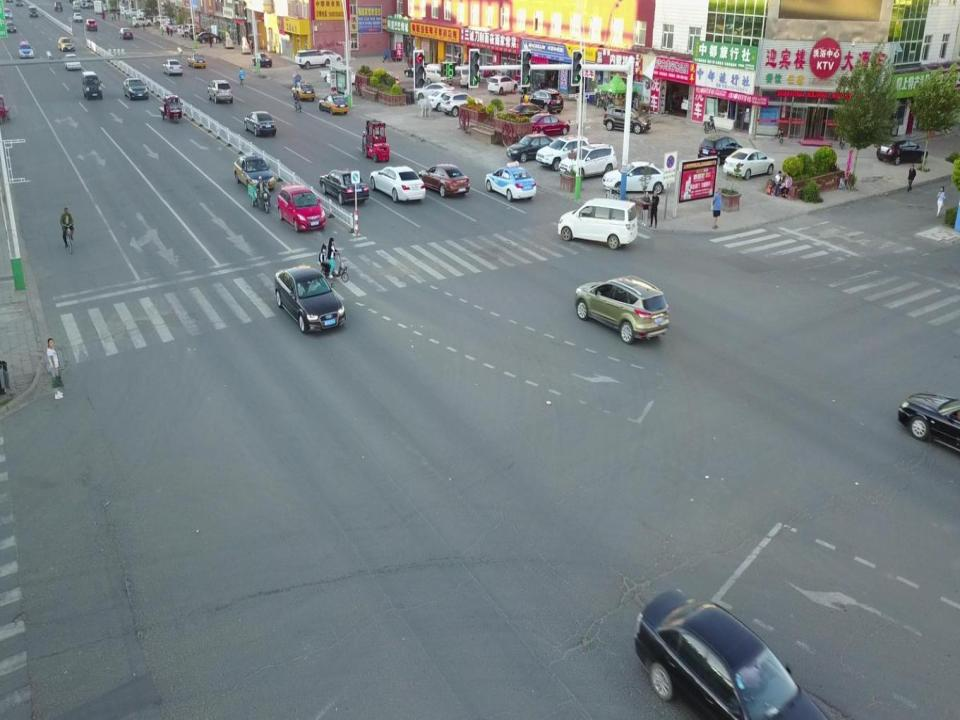car: (635, 584, 830, 720), (575, 274, 669, 342), (275, 266, 345, 334), (897, 388, 960, 457), (558, 198, 637, 248), (277, 182, 325, 231), (602, 160, 668, 195), (559, 141, 617, 179), (369, 165, 426, 202), (484, 162, 536, 201), (536, 131, 588, 169), (418, 162, 470, 197), (319, 169, 369, 205), (233, 151, 275, 193), (723, 147, 774, 178), (876, 134, 928, 164), (698, 132, 743, 164), (508, 133, 557, 162), (604, 105, 650, 133), (524, 111, 570, 137), (440, 92, 484, 119), (524, 87, 564, 114), (506, 101, 549, 124), (244, 110, 277, 138), (414, 81, 454, 101), (318, 90, 349, 115), (427, 90, 463, 111), (294, 49, 331, 69), (403, 60, 438, 79), (208, 79, 233, 104), (489, 75, 518, 95), (123, 78, 149, 100), (291, 79, 315, 101), (326, 70, 358, 86), (316, 48, 342, 65), (163, 58, 182, 78), (17, 40, 35, 60), (195, 30, 220, 43), (188, 50, 206, 68), (252, 52, 272, 68), (177, 22, 199, 36), (63, 54, 80, 70), (131, 15, 152, 27), (59, 36, 74, 52), (153, 15, 172, 26), (189, 29, 208, 40), (161, 21, 179, 31), (3, 21, 17, 32), (119, 29, 133, 40), (126, 8, 142, 17), (85, 20, 98, 31), (137, 8, 152, 17), (1, 7, 13, 18), (28, 6, 39, 18), (81, 0, 95, 9), (73, 12, 83, 24), (121, 7, 133, 15), (53, 2, 63, 11), (15, 0, 23, 7)
truck: (319, 62, 352, 84), (93, 1, 104, 14)
van: (425, 62, 452, 85), (81, 72, 102, 100), (460, 64, 472, 88), (72, 0, 79, 11)
